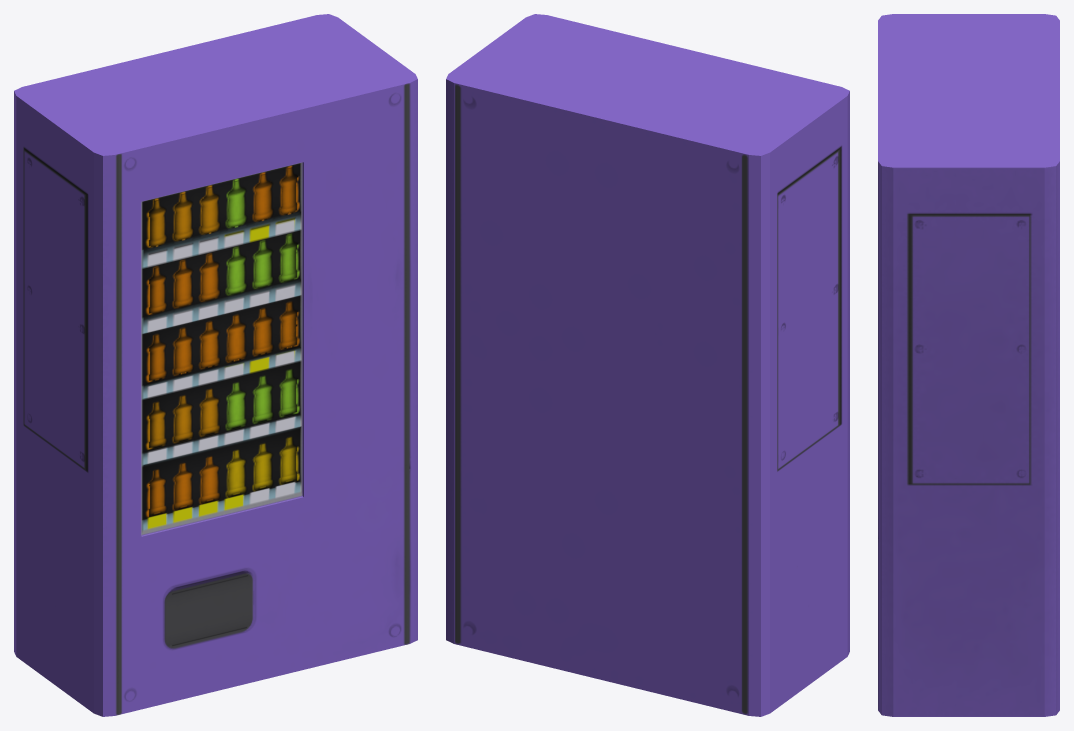
Rendered from ParkVendingMachine.fbx.
3 renders of one model, left to right at view 1: azimuth 30°, elevation 25°; view 2: azimuth 150°, elevation 25°; view 3: azimuth 270°, elevation 25°, orthographic. The views are drawn at different scales.
Visible parts, largest first — view 1: ParkVendingMachine; view 2: ParkVendingMachine; view 3: ParkVendingMachine.
Part boxes in pixels (box(x1,y1,x2,y2)): ParkVendingMachine: box(14, 14, 417, 716); ParkVendingMachine: box(446, 14, 849, 716); ParkVendingMachine: box(878, 14, 1059, 716).
Bounding box in the file's own units: 215 × 358 × 107.
Materials: 1 (1 with a texture image).
